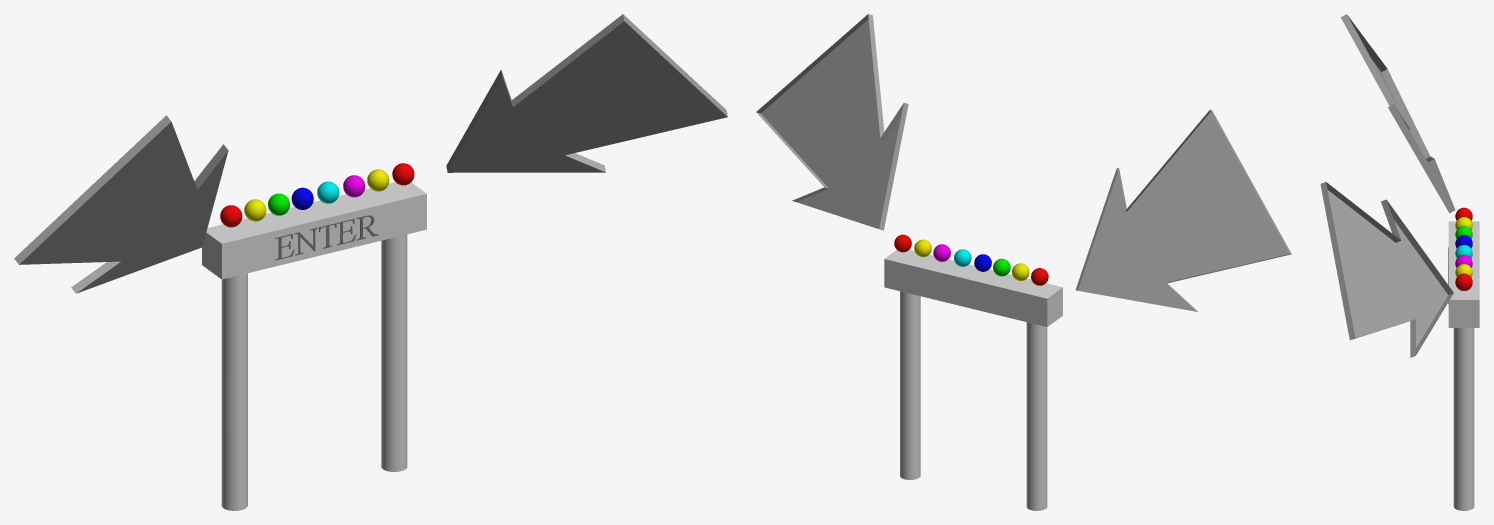
Rendered from entrance.fbx.
3 renders of one model, left to right at view 1: azimuth 30°, elevation 25°; view 2: azimuth 150°, elevation 25°; view 3: azimuth 270°, elevation 25°, orthographic. The views are drawn at different scales.
Parts seen in each view (by area): view 1: arrow2, arrow1, pCube1, pCylinder2, pCylinder1, planarTrimmedSurface1; view 2: arrow1, arrow2, pCube1, pCylinder1, pCylinder2; view 3: arrow2, pCylinder2, arrow1, pCube1, pSphere8.
Boxes of the visible parts, x1,y1,x2,y2 form: arrow2: (446,14,727,172); arrow1: (14,115,228,293); pCube1: (202,182,426,279); pCylinder2: (381,234,407,471); pCylinder1: (221,273,247,510); planarTrimmedSurface1: (275,215,378,260); arrow1: (1075,109,1291,311); arrow2: (756,14,908,230); pCube1: (884,250,1062,326); pCylinder1: (1026,322,1047,510); pCylinder2: (900,291,920,479); arrow2: (1320,182,1453,357); pCylinder2: (1453,328,1474,510); arrow1: (1341,14,1455,213); pCube1: (1448,221,1479,327); pSphere8: (1455,273,1472,290).
Size of the model in its own units: 607 by 404 by 154.
